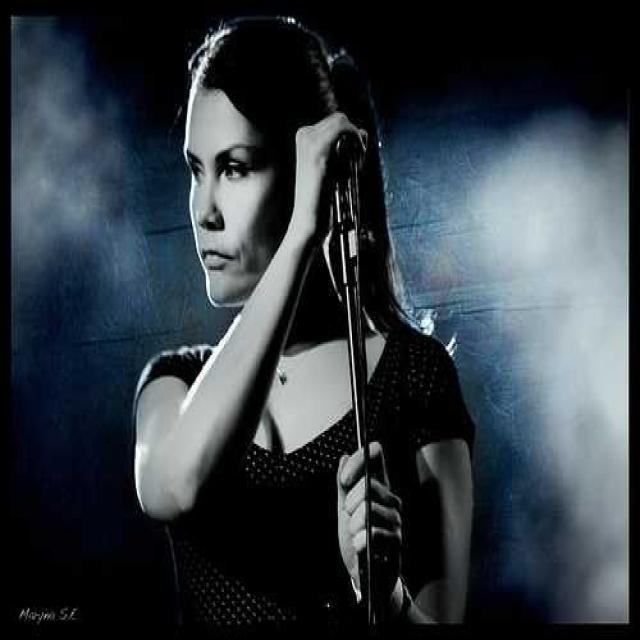microphone: (332, 128, 364, 196)
